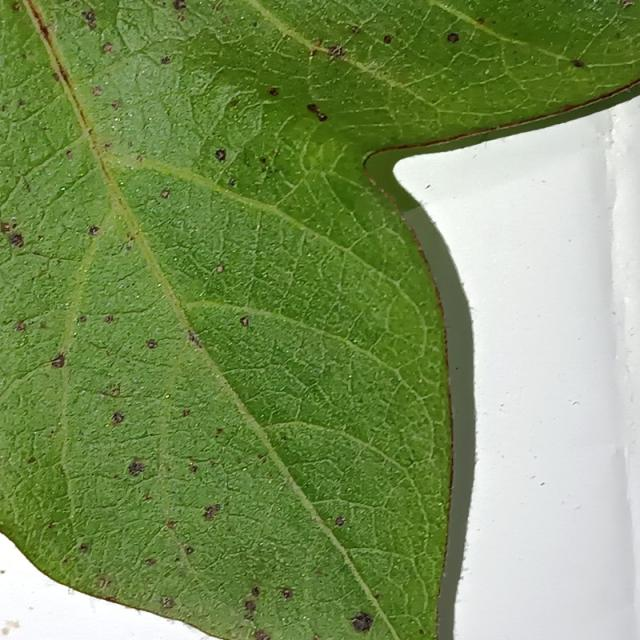Bacterial_Blight: (241, 586, 300, 637), (123, 455, 153, 482), (1, 220, 26, 250), (349, 610, 374, 633), (243, 593, 260, 618), (93, 573, 112, 592), (172, 0, 188, 22), (307, 105, 327, 122), (82, 10, 98, 30), (186, 329, 203, 347), (119, 236, 136, 253), (202, 503, 220, 519), (309, 40, 325, 58), (324, 43, 344, 57), (50, 352, 66, 368), (21, 175, 32, 196), (255, 628, 271, 640), (161, 596, 175, 609), (111, 411, 125, 424), (214, 148, 227, 161), (0, 221, 13, 234), (57, 69, 69, 83), (446, 32, 460, 43), (39, 24, 50, 37), (88, 225, 100, 236), (335, 515, 346, 527), (239, 315, 250, 327), (281, 588, 293, 599), (102, 43, 113, 54), (92, 85, 103, 96), (146, 339, 158, 349), (15, 321, 27, 331), (618, 0, 632, 8), (111, 99, 121, 110), (307, 103, 318, 113), (110, 385, 120, 396), (228, 98, 239, 108), (104, 314, 115, 324), (160, 55, 171, 65), (144, 558, 157, 566), (572, 60, 585, 68), (215, 264, 225, 274), (166, 519, 176, 529), (78, 543, 88, 553), (383, 34, 393, 44), (250, 587, 260, 597), (268, 87, 279, 96), (160, 190, 170, 199), (257, 453, 267, 462), (52, 72, 61, 82), (184, 546, 194, 555), (313, 39, 323, 48), (189, 464, 198, 473), (17, 98, 26, 107), (221, 16, 230, 25), (12, 2, 21, 11), (27, 456, 37, 464), (65, 149, 73, 159), (77, 315, 87, 323), (350, 26, 360, 34), (227, 178, 236, 186), (182, 409, 191, 417), (39, 321, 48, 329), (476, 17, 485, 25), (104, 141, 112, 150), (215, 428, 223, 436), (47, 522, 56, 529), (143, 494, 152, 501), (260, 157, 267, 164), (136, 155, 143, 162), (615, 32, 622, 39), (374, 593, 381, 600), (251, 21, 258, 28), (127, 141, 133, 148), (418, 628, 424, 635), (12, 223, 18, 229)
Cotton: (0, 0, 639, 639)
